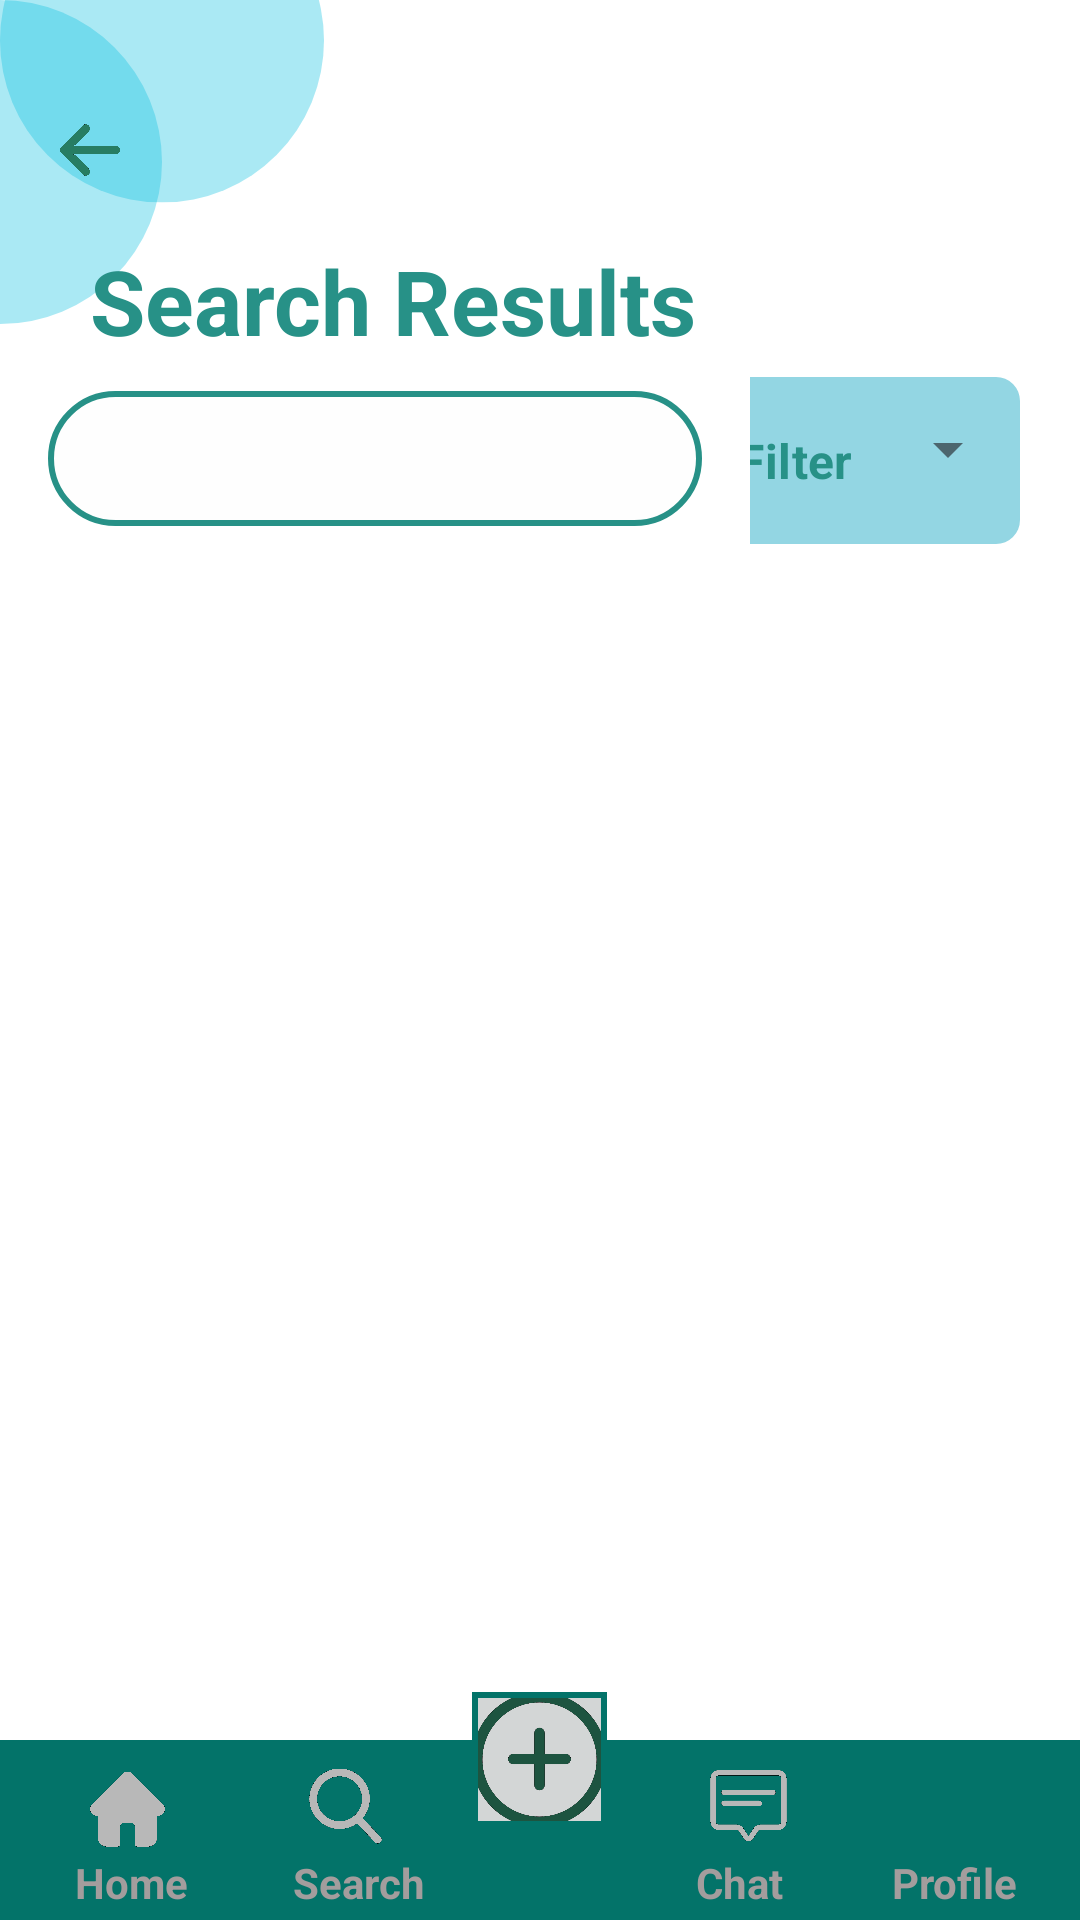

Screen size 1080x1920. Icon name, then its box in pixels as [left=x1, top=y1, right=x2, bottom=y2]:
add: [left=478, top=1698, right=601, bottom=1821]
